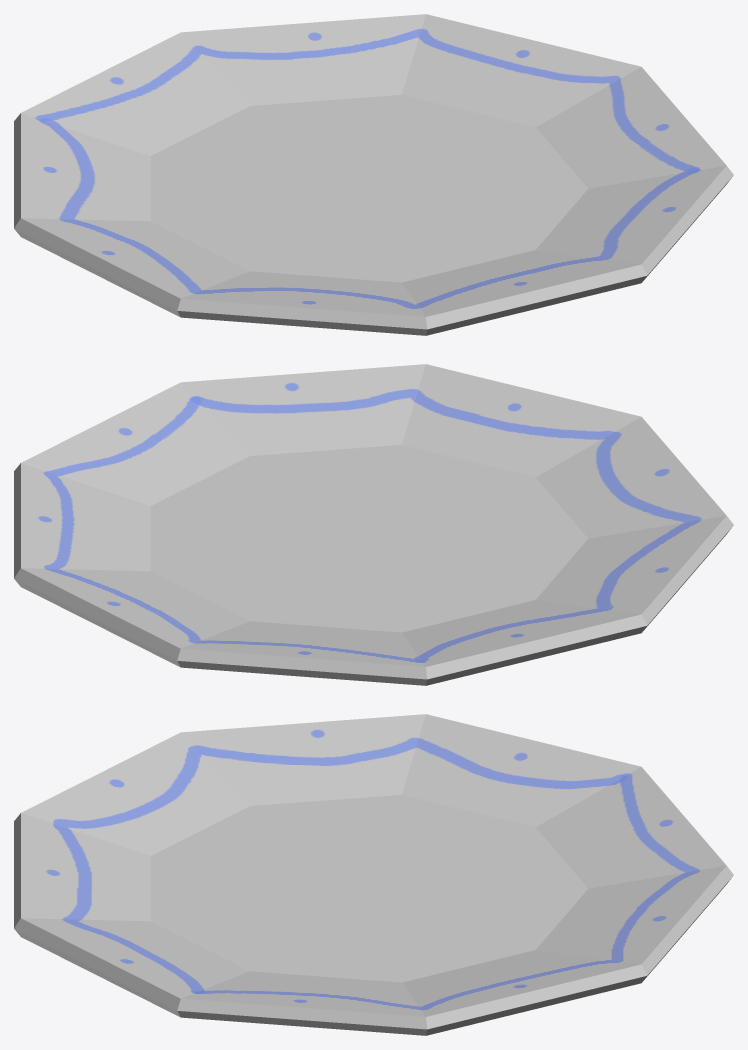
The model's file is Plate.fbx.
The picture shows the model from 3 angles, top to bottom: view 1: azimuth 30°, elevation 25°; view 2: azimuth 150°, elevation 25°; view 3: azimuth 270°, elevation 25°; orthographic projection.
Visible parts, largest first — view 1: Cylinder; view 2: Cylinder; view 3: Cylinder.
Part boxes in pixels (left/top/right/bottom): Cylinder: left=14, top=14, right=733, bottom=335; Cylinder: left=14, top=364, right=733, bottom=685; Cylinder: left=14, top=714, right=733, bottom=1035.
Bounding box in the file's own units: 42.19 × 3.27 × 41.55.
